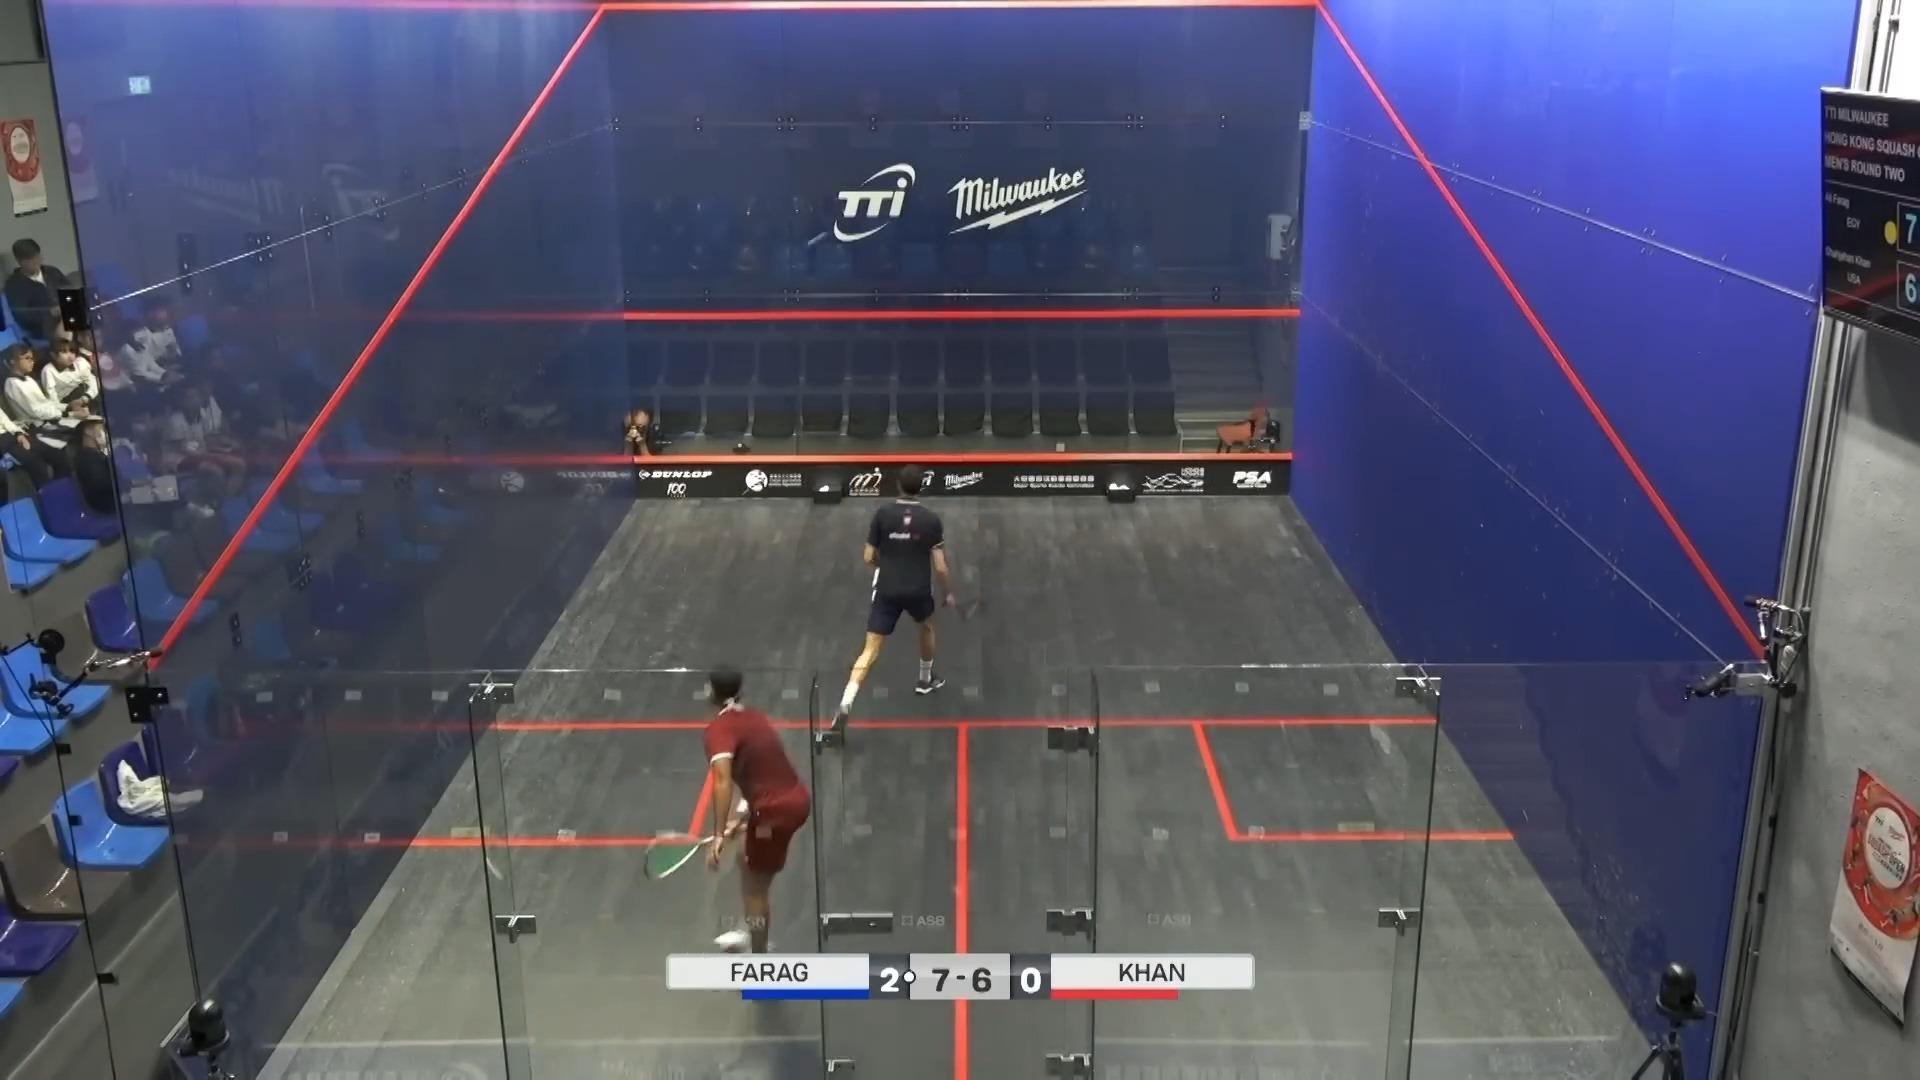Racket: (638, 835, 715, 877)
